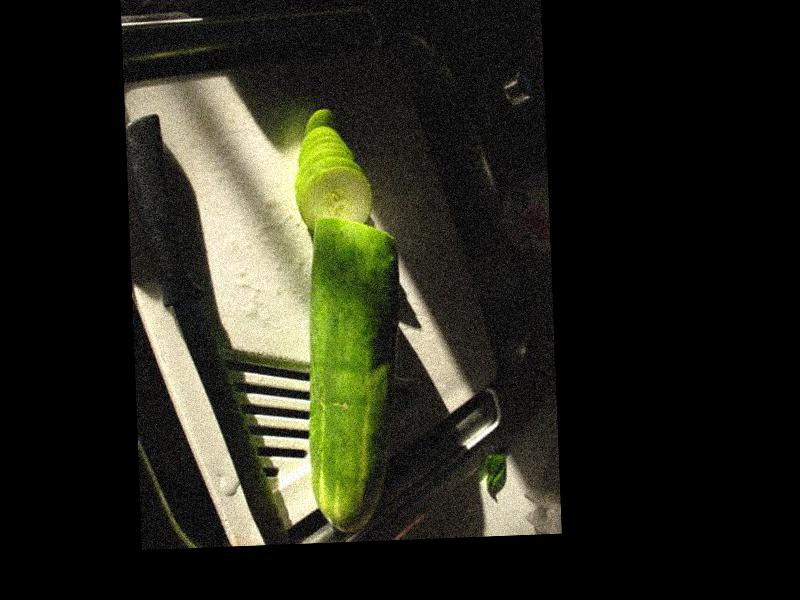Cucumber: (300, 212, 408, 533)
